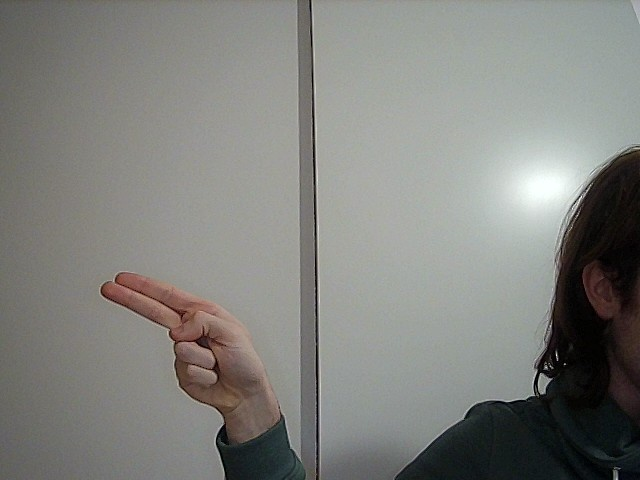h: (76, 253, 277, 414)
